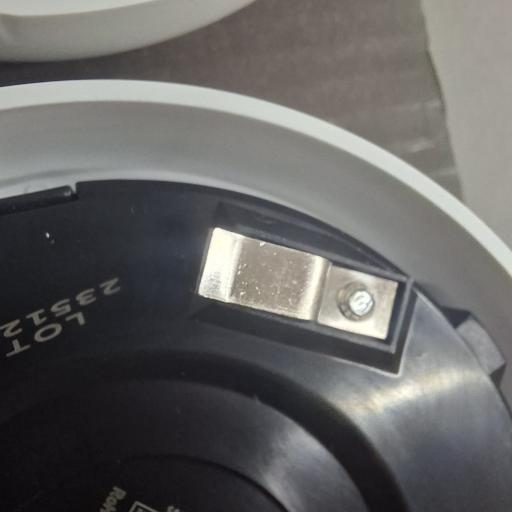yaysiz: (190, 222, 397, 342)
